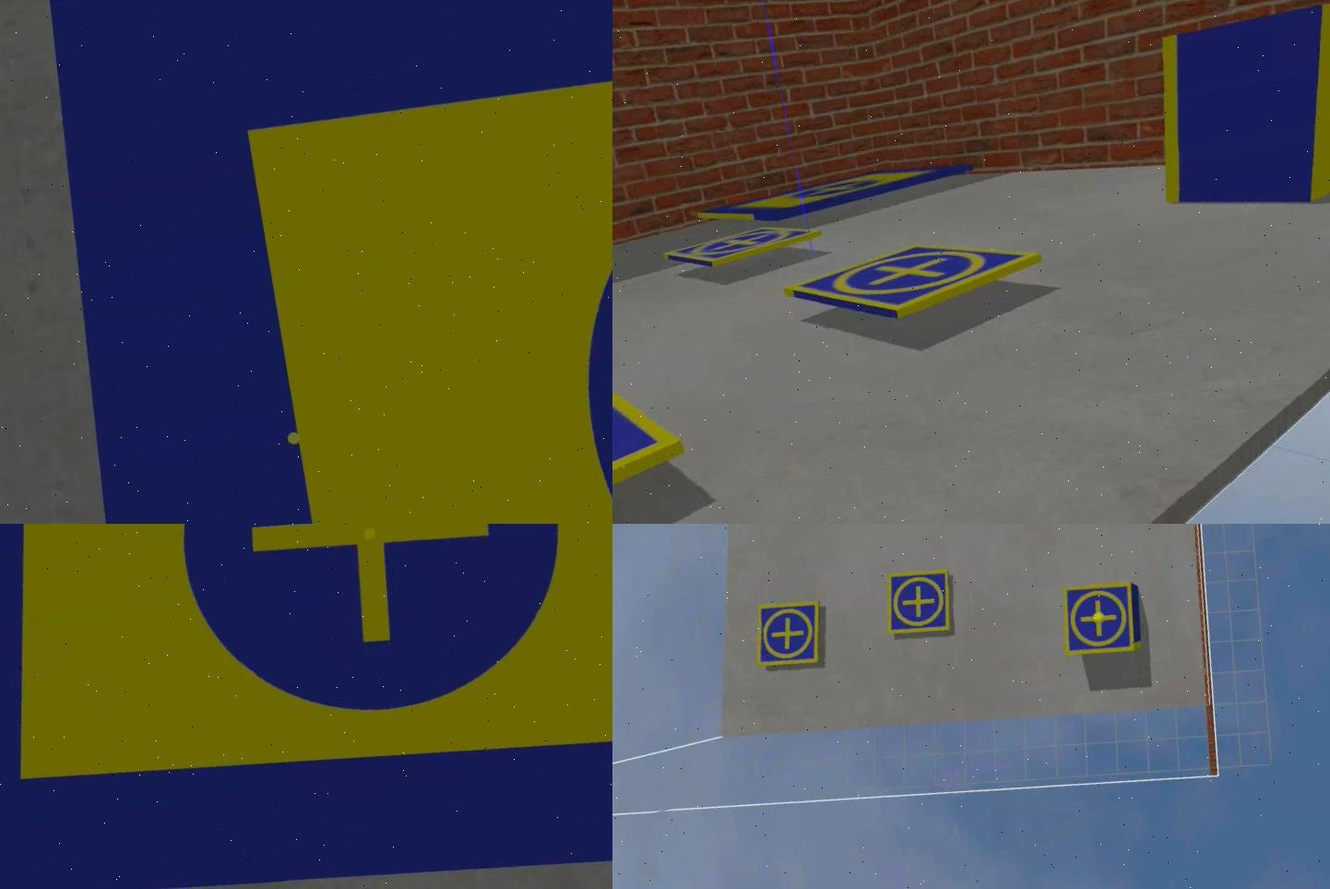large_base: (0, 1, 611, 524), (0, 524, 611, 889), (692, 150, 976, 234)
small_base: (783, 221, 1044, 336), (659, 217, 815, 280), (1051, 579, 1144, 665), (744, 595, 828, 677), (876, 564, 958, 643)
